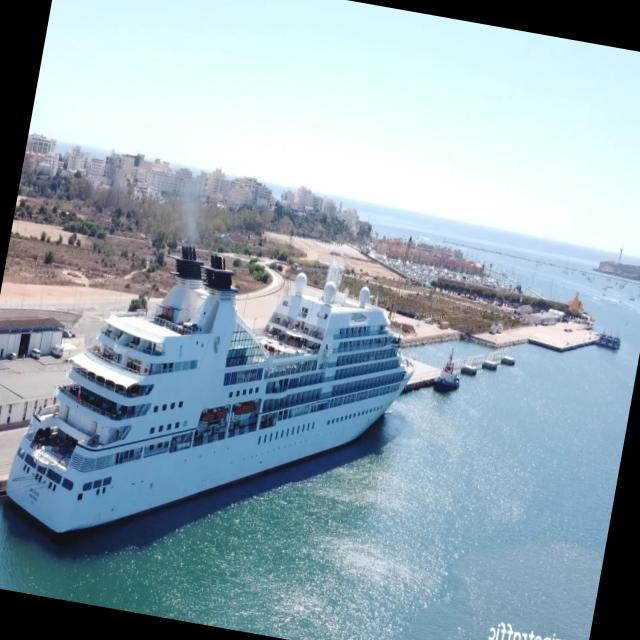Cruise: (6, 246, 412, 532)
Tug: (433, 360, 459, 392)
